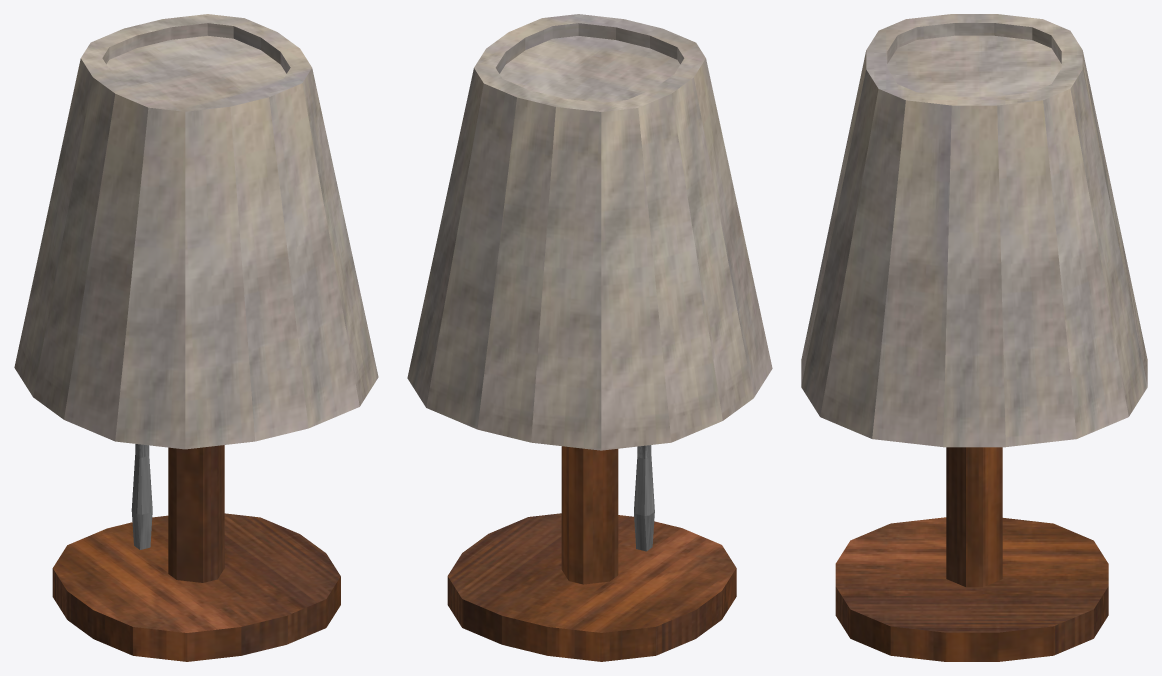
The model's file is lamp_table.fbx.
The picture shows the model from 3 angles, left to right: view 1: azimuth 30°, elevation 25°; view 2: azimuth 150°, elevation 25°; view 3: azimuth 270°, elevation 25°; orthographic projection.
Parts seen in each view (by area): view 1: lamp.001; view 2: lamp.001; view 3: lamp.001.
Part boxes in pixels (x1,y1,x2,y2): lamp.001: (14, 14, 378, 661); lamp.001: (407, 14, 772, 661); lamp.001: (801, 14, 1147, 661).
Size of the model in its own units: 147 by 255 by 147.
